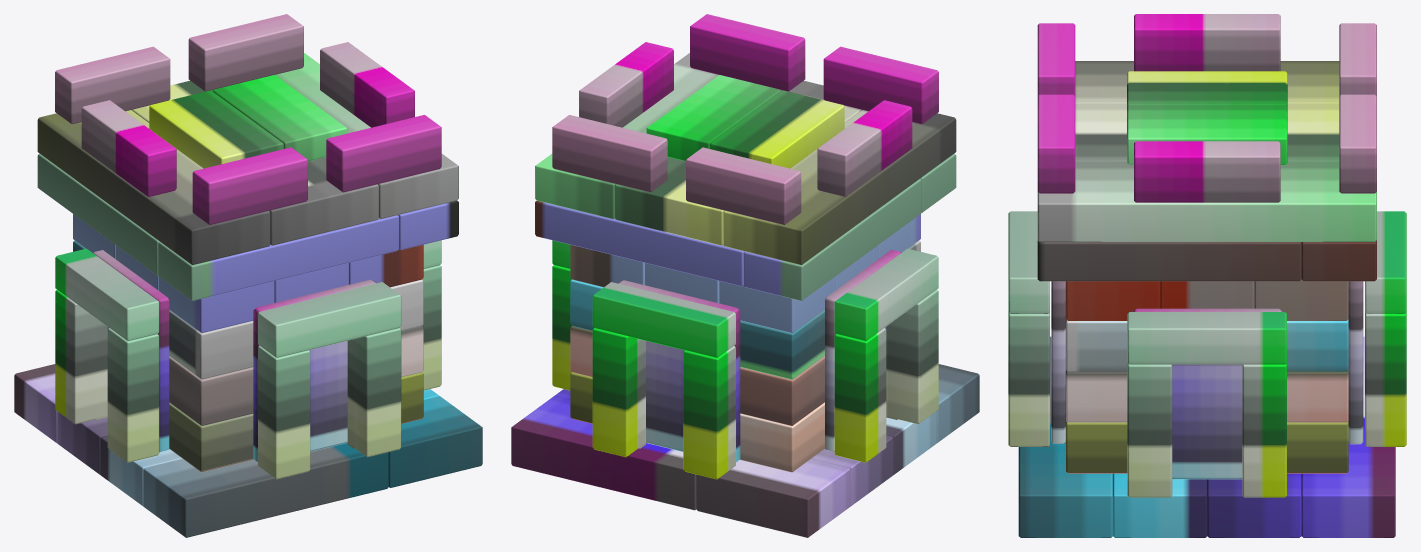
File: level_165.fbx
The picture shows the model from 3 angles, left to right: view 1: azimuth 30°, elevation 25°; view 2: azimuth 150°, elevation 25°; view 3: azimuth 270°, elevation 25°; orthographic projection. The views are drawn at different scales.
Parts seen in each view (by area): view 1: Cube_L4_3.002, Cube_L1_2.004, Cube_L1_6.002, Cube_L2_8.004, Cube_L2_10.004, Cube_L1_12.002, Cube_L1_3.004, Cube_L1_13.002, Cube_L2_4.004, Cube_L2_2.004, Cube_L1_5.002, Cube_L1_4.003 (+28 smaller); view 2: Cube_L1_2.004, Cube_L4_4.002, Cube_L4.002, Cube_L1_10.002, Cube_L2_9.004, Cube_L1_1.004, Cube_L1_13.002, Cube_L1_4.003, Cube_L1_12.002, Cube_L2_5.004, Cube_L2_1.004, Cube_L2_11.004 (+28 smaller); view 3: Cube_L1_14.002, Cube_L1_15.002, Cube_L1_16.002, Cube_L2_12.004, Cube_L1.004, Cube_L2_13.004, Cube_L4_4.002, Cube_L4_7.001, Cube_L3_21, Cube_L3_18, Cube_L1_11.002, Cube_L2_14.004 (+23 smaller).
Boxes of the visible parts, bbox=[...] form: Cube_L4_3.002: bbox=[143, 443, 388, 537]; Cube_L1_2.004: bbox=[37, 110, 270, 264]; Cube_L1_6.002: bbox=[158, 215, 399, 300]; Cube_L2_8.004: bbox=[258, 282, 401, 357]; Cube_L2_10.004: bbox=[347, 328, 401, 457]; Cube_L1_12.002: bbox=[326, 115, 441, 192]; Cube_L1_3.004: bbox=[192, 147, 307, 224]; Cube_L1_13.002: bbox=[188, 14, 303, 91]; Cube_L2_4.004: bbox=[258, 345, 310, 479]; Cube_L2_2.004: bbox=[107, 328, 159, 462]; Cube_L1_5.002: bbox=[149, 90, 283, 168]; Cube_L1_4.003: bbox=[55, 46, 170, 124]; Cube_L1_2.004: bbox=[723, 110, 956, 264]; Cube_L4_4.002: bbox=[511, 396, 696, 510]; Cube_L4.002: bbox=[696, 458, 850, 537]; Cube_L1_10.002: bbox=[535, 200, 744, 286]; Cube_L2_9.004: bbox=[592, 282, 735, 357]; Cube_L1_1.004: bbox=[743, 179, 921, 300]; Cube_L1_13.002: bbox=[552, 115, 667, 192]; Cube_L1_4.003: bbox=[686, 147, 801, 224]; Cube_L1_12.002: bbox=[690, 14, 805, 91]; Cube_L2_5.004: bbox=[683, 346, 735, 479]; Cube_L2_1.004: bbox=[834, 328, 886, 462]; Cube_L2_11.004: bbox=[592, 328, 645, 457]; Cube_L1_14.002: bbox=[1037, 162, 1376, 241]; Cube_L1_15.002: bbox=[1037, 240, 1301, 281]; Cube_L1_16.002: bbox=[1134, 141, 1280, 202]; Cube_L2_12.004: bbox=[1132, 308, 1282, 479]; Cube_L1.004: bbox=[1134, 14, 1280, 71]; Cube_L2_13.004: bbox=[1127, 312, 1286, 364]; Cube_L4_4.002: bbox=[1301, 397, 1395, 537]; Cube_L4_7.001: bbox=[1018, 446, 1112, 537]; Cube_L3_21: bbox=[1066, 421, 1348, 473]; Cube_L3_18: bbox=[1066, 319, 1348, 371]; Cube_L1_11.002: bbox=[1127, 105, 1287, 164]; Cube_L2_14.004: bbox=[1127, 363, 1172, 497].
Size of the model in its own units: 15.56 by 16.11 by 15.53.
